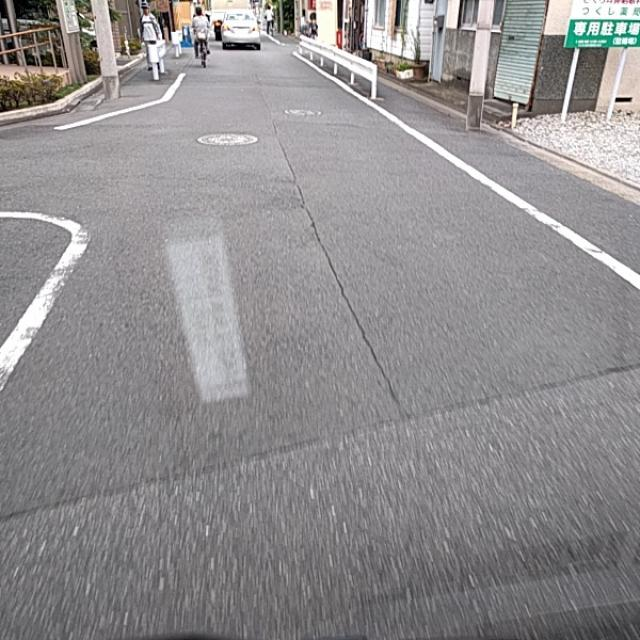pothole: (323, 272, 383, 351)
